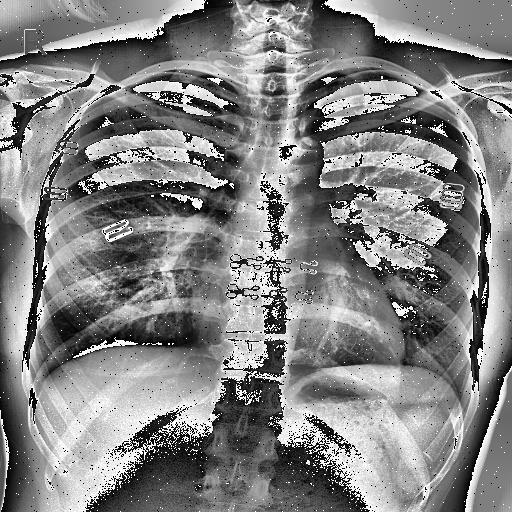7- Lung Opacity: (42, 176, 228, 344), (42, 191, 228, 346), (42, 210, 220, 340)
9- Other lesion: (42, 176, 228, 344), (42, 210, 220, 340)
